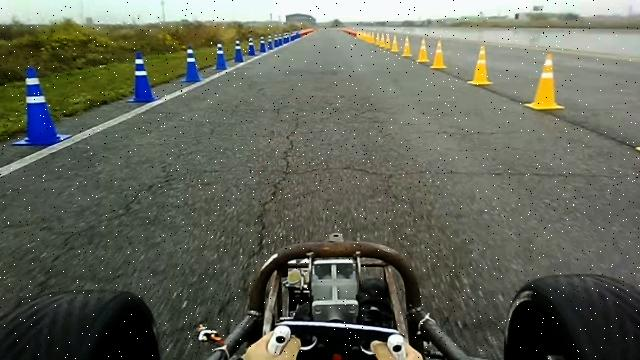blue cone: (11, 65, 72, 146), (126, 51, 159, 103), (181, 44, 203, 82), (212, 42, 228, 71), (233, 38, 244, 62), (248, 36, 258, 56)
yellow cone: (524, 52, 564, 111), (466, 44, 493, 86), (429, 39, 446, 69), (416, 37, 429, 63), (401, 34, 412, 56), (390, 34, 400, 52)
